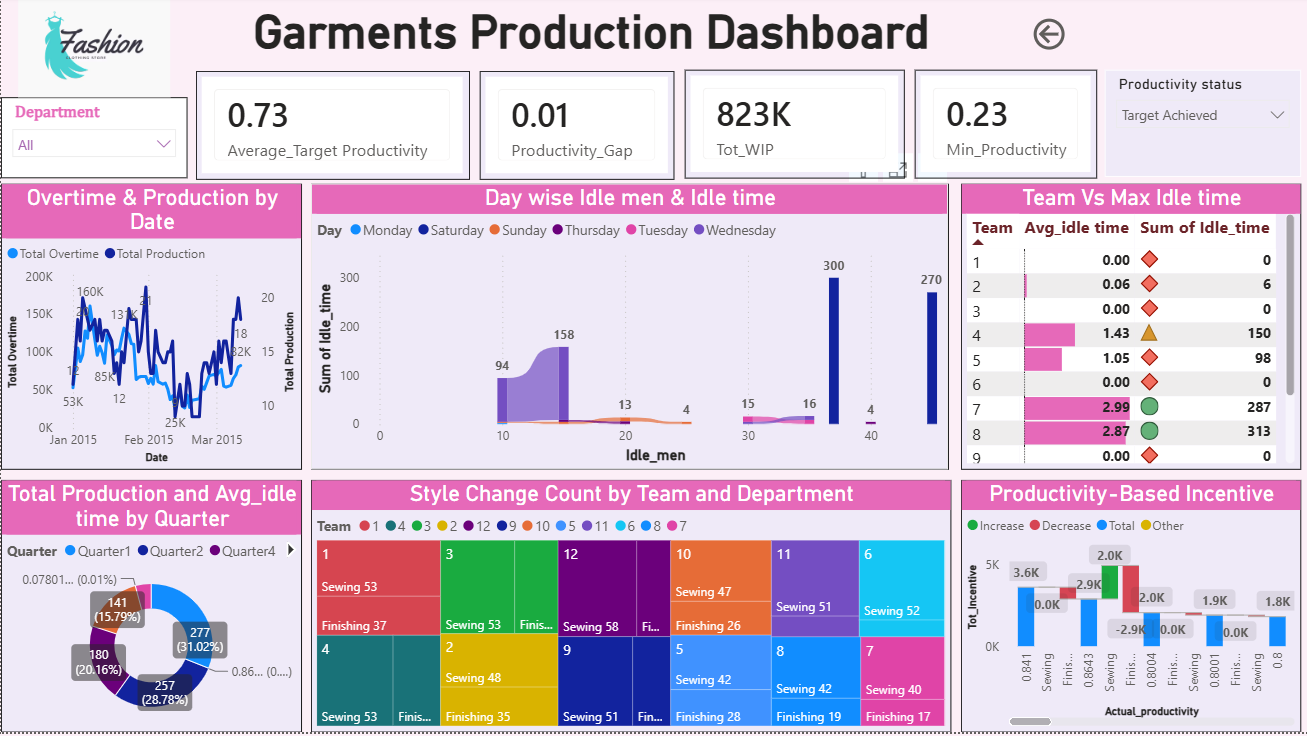

This screenshot's page, from the dashboard's own definition file:
{"tool":"powerbi","page":{"name":"Dashboard 2","canvas":[1280,720],"ordinal":4},"visuals":[{"type":"textbox","title":"Garments Production Dashboard","box":[182.2,8.6,791.2,57.5],"z":0},{"type":"slicer","fields":{"Values":["Garments_Prod_DB.Department"]},"box":[0,99,182.2,79.5],"z":1000},{"type":"image","box":[0,0,182.2,99],"z":2000},{"type":"ribbonChart","title":"Day wise Idle men & Idle time","fields":{"Category":["Garments_Prod_DB.Idle_men"],"Y":["Sum(Garments_Prod_DB.Idle_time)"],"Series":["Garments_Prod_DB.Day"]},"box":[303.3,183.4,623.6,280],"z":3000},{"type":"pivotTable","title":"Team Vs Max Idle time","fields":{"Rows":["Garments_Prod_DB.Team"],"Values":["Measures table.Avg_idle time","Sum(Garments_Prod_DB.Idle_time)"]},"box":[939.1,183.4,332.6,280],"z":4000},{"type":"lineChart","title":"Overtime & Production by Date","fields":{"Category":["Garments_Prod_DB.Date"],"Y":["Measures table.Total Overtime"],"Y2":["Measures table.Total Production"]},"box":[0,183.4,294.7,280],"z":5000},{"type":"treemap","title":"Style Change Count by Team and Department","fields":{"Group":["Garments_Prod_DB.Team","Garments_Prod_DB.Quarter"],"Details":["Garments_Prod_DB.Department"],"Values":["CountNonNull(Garments_Prod_DB.No_of_style_change)"]},"box":[303.3,473.2,626.1,247],"z":6000},{"type":"waterfallChart","title":"Productivity-Based Incentive","fields":{"Breakdown":["Garments_Prod_DB.Department"],"Y":["Measures table.Tot_Incentive"],"Category":["Garments_Prod_DB.Actual_productivity"]},"box":[939.1,473.2,332.6,247],"z":7000},{"type":"donutChart","fields":{"Category":["Garments_Prod_DB.Quarter"],"Y":["Measures table.Total Production","Measures table.Avg_idle time"]},"box":[0,473.2,294.7,247],"z":8000},{"type":"cardVisual","fields":{"Data":["Measures table.Average_Target Productivity"]},"box":[190.8,73.4,267.8,106.4],"z":9000},{"type":"cardVisual","fields":{"Data":["Measures table.Productivity_Gap"]},"box":[468.3,73.4,190.8,106.4],"z":10000},{"type":"cardVisual","fields":{"Data":["Measures table.Tot_WIP"]},"box":[668.9,72.1,215.2,106.4],"z":11000},{"type":"cardVisual","fields":{"Data":["Measures table.Min_Productivity"]},"box":[893.9,72.1,178.5,106.4],"z":12000},{"type":"slicer","title":"Productivity status","fields":{"Values":["Garments_Prod_DB.Productivity status"]},"box":[1079.8,72.1,192,105.2],"z":13000},{"type":"actionButton","box":[1005.2,17.1,100.3,40.4],"z":14000}]}

Visuals, with their boxes in screenshot pixels (x1, y1, x2, y2), scaled from the page's 1280x720 canvas onto the 1307x736 screenshot:
"Garments Production Dashboard" textbox: bbox=(186, 9, 994, 68)
slicer - Garments_Prod_DB.Department: bbox=(0, 101, 186, 182)
image: bbox=(0, 0, 186, 101)
"Day wise Idle men & Idle time" ribbonChart: bbox=(310, 187, 946, 474)
"Team Vs Max Idle time" pivotTable: bbox=(959, 187, 1299, 474)
"Overtime & Production by Date" lineChart: bbox=(0, 187, 301, 474)
"Style Change Count by Team and Department" treemap: bbox=(310, 484, 949, 735)
"Productivity-Based Incentive" waterfallChart: bbox=(959, 484, 1299, 735)
donutChart - Garments_Prod_DB.Quarter x Measures table.Total Production: bbox=(0, 484, 301, 735)
cardVisual - Measures table.Average_Target Productivity: bbox=(195, 75, 468, 184)
cardVisual - Measures table.Productivity_Gap: bbox=(478, 75, 673, 184)
cardVisual - Measures table.Tot_WIP: bbox=(683, 74, 903, 182)
cardVisual - Measures table.Min_Productivity: bbox=(913, 74, 1095, 182)
"Productivity status" slicer: bbox=(1103, 74, 1299, 181)
actionButton: bbox=(1026, 17, 1129, 59)
